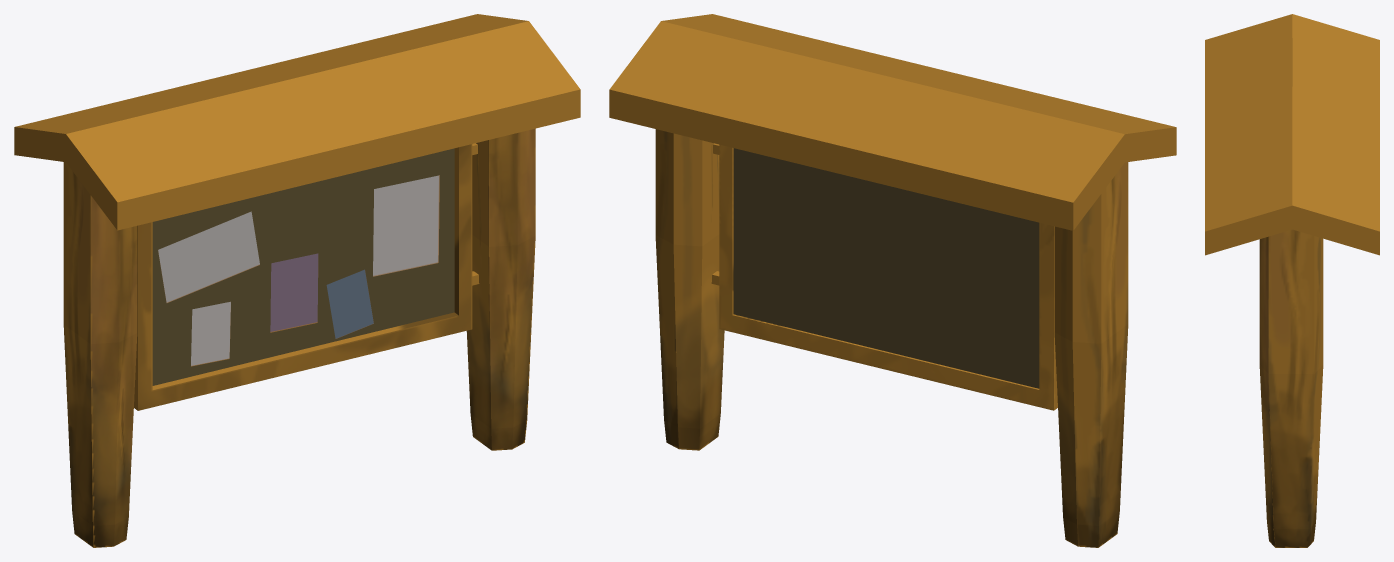
Rendered from Bulliten-optimized.glb.
3 renders of one model, left to right at view 1: azimuth 30°, elevation 25°; view 2: azimuth 150°, elevation 25°; view 3: azimuth 270°, elevation 25°, orthographic. The views are drawn at different scales.
Parts seen in each view (by area): view 1: Cube.008; view 2: Cube.008; view 3: Cube.008.
Part boxes in pixels (left/top/right/bottom): Cube.008: left=14, top=14, right=580, bottom=547; Cube.008: left=609, top=14, right=1176, bottom=547; Cube.008: left=1205, top=14, right=1379, bottom=547.
Bounding box in the file's own units: 1.31 × 1.11 × 0.5044.
1 material, 1 textured.
